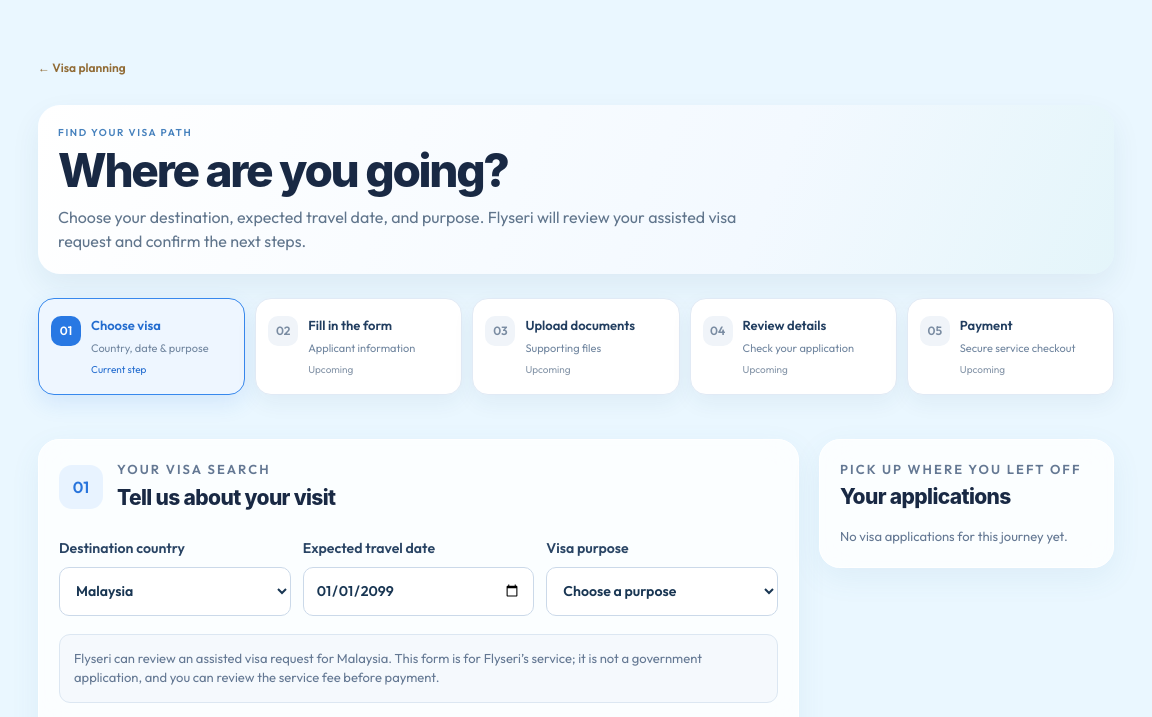
Test: optional saved visa applicants › clears stale services and finishes loading when the destination is cleared
Select "Tourism" in the dropdown labelled "Visa purpose" at (662, 591), box [546,567,778,616]
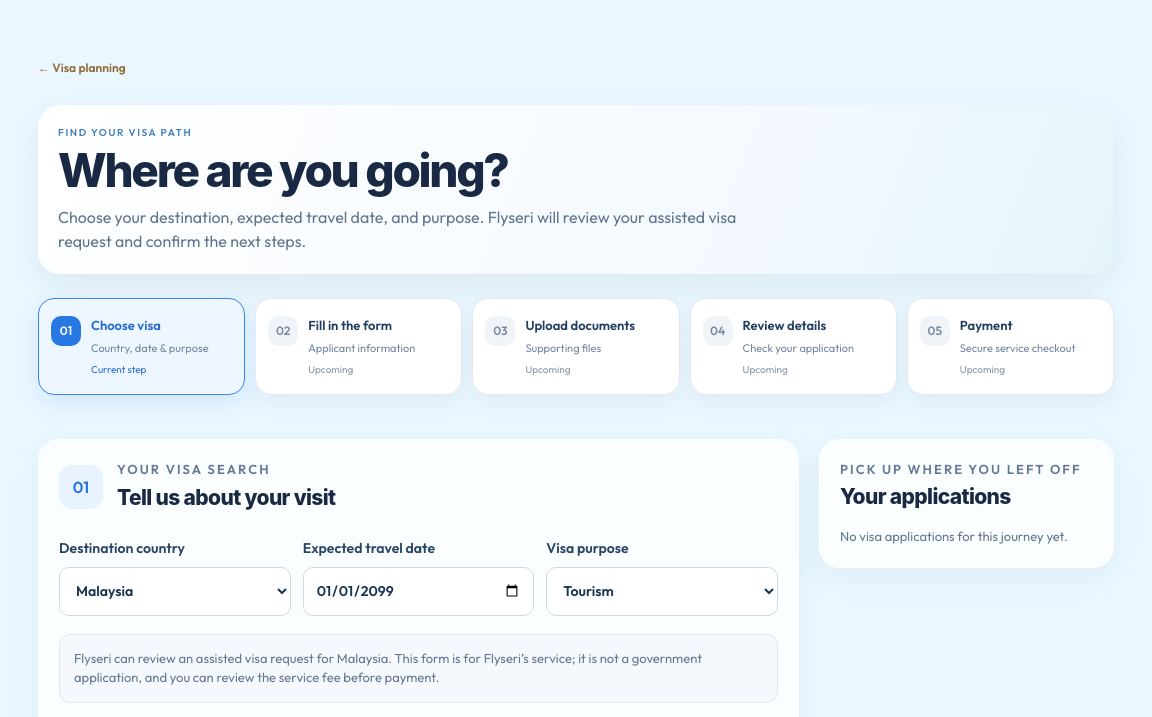
Select "Japan" in the dropdown labelled "Destination country" at (175, 591), box [59,567,291,616]
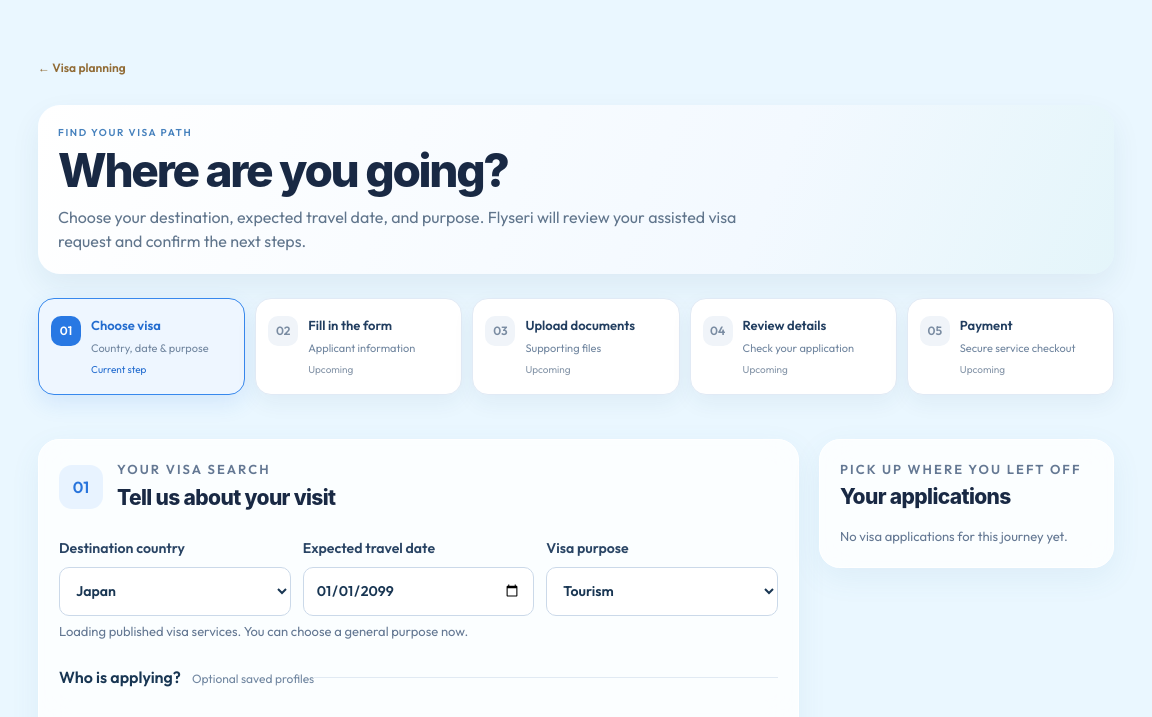
Select "Choose a country" in the dropdown labelled "Destination country" at (175, 591), box [59,567,291,616]
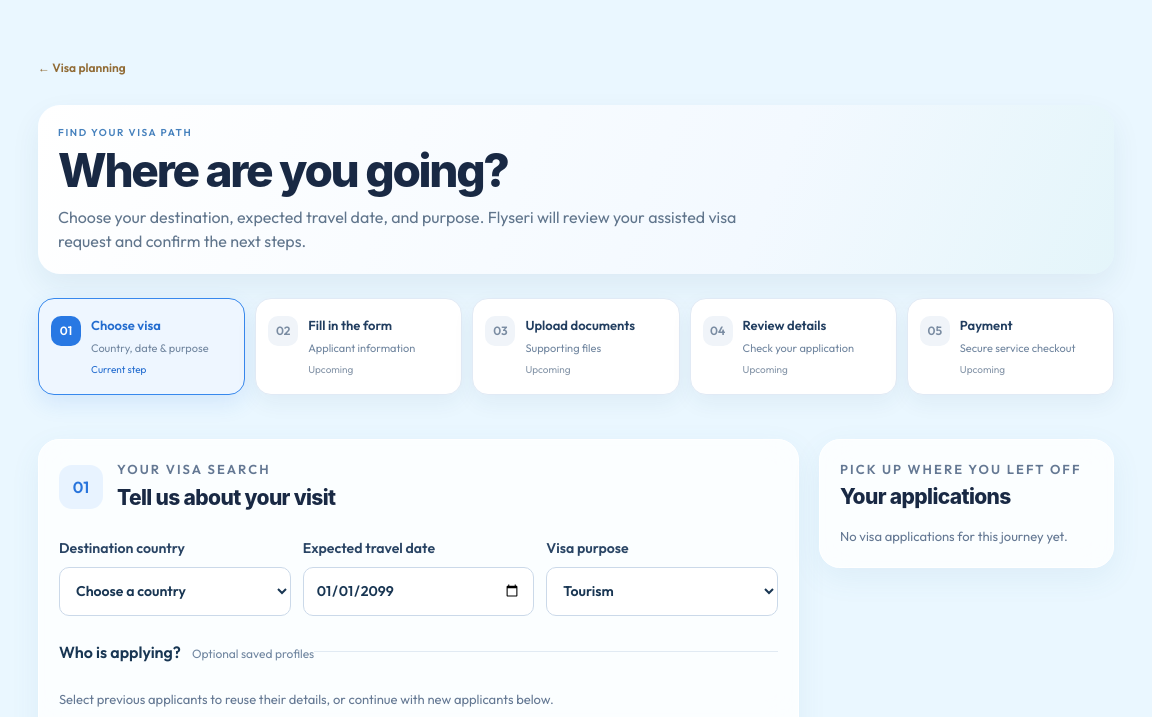
Expected: the dropdown labelled "Visa purpose" is enabled, [546,567,778,616]
Expected: the text "Loading published visa services. You can choose a general purpose now." is gone
